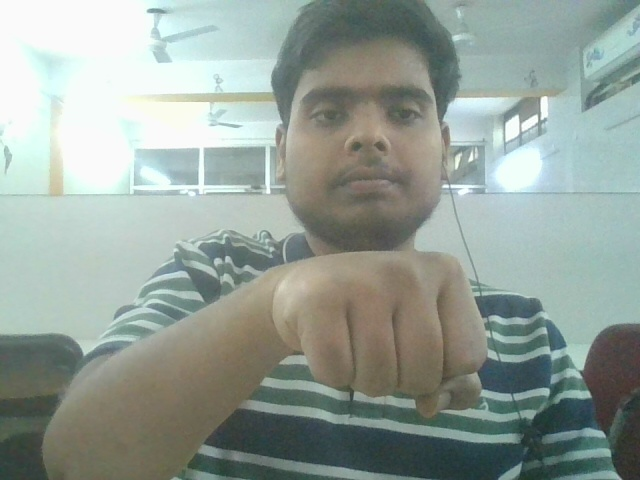Yes: (260, 243, 521, 424)
